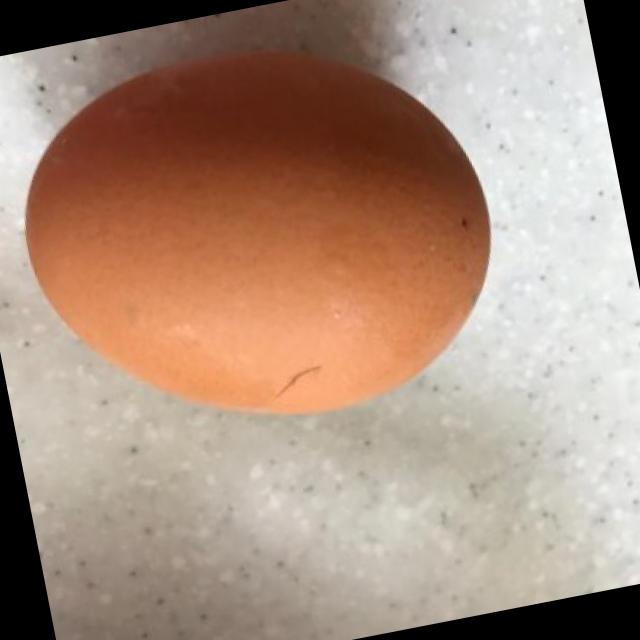eggs: (0, 4, 529, 467)
